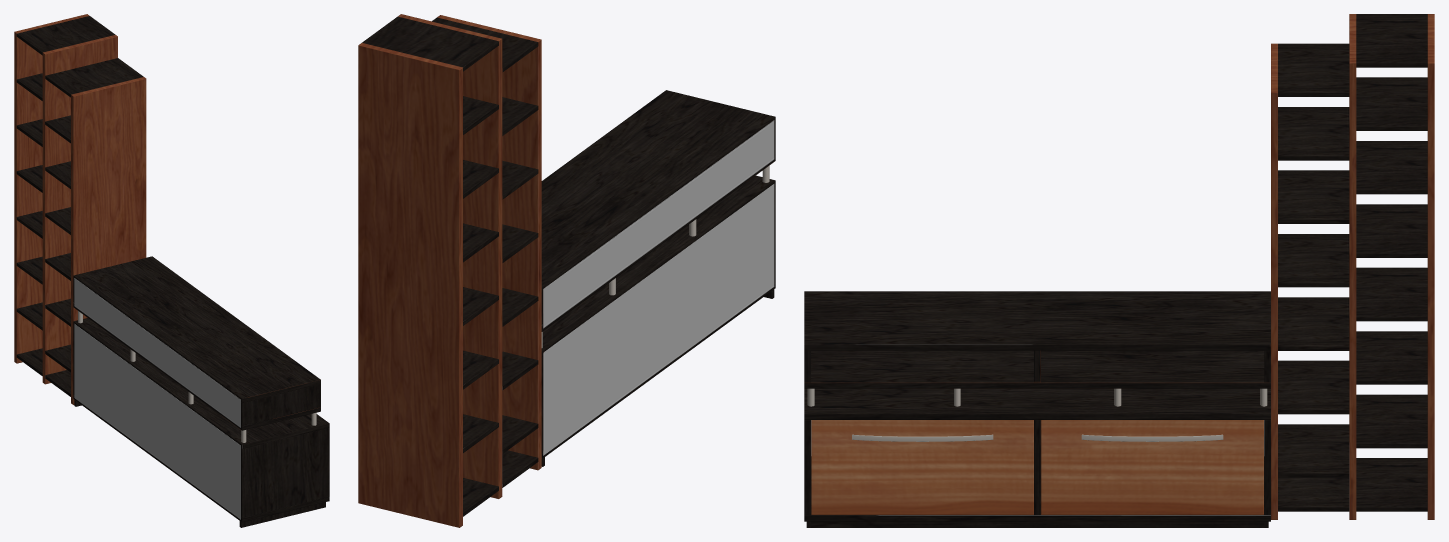
Rendered from closet.glb.
3 views of the same model, side by side, from view 1: azimuth 30°, elevation 25°; view 2: azimuth 150°, elevation 25°; view 3: azimuth 270°, elevation 25° (orthographic). The views are drawn at different scales.
Parts seen in each view (by area): view 1: Cube.005, Cube.003; view 2: Cube.003, Cube.005; view 3: Cube.003, Cube.005, Cube.001, Cube.002.
Boxes of the visible parts, x1,y1,x2,y2 form: Cube.005: (73, 256, 329, 527); Cube.003: (14, 14, 146, 404); Cube.003: (358, 14, 541, 527); Cube.005: (541, 90, 775, 466); Cube.003: (1271, 14, 1434, 519); Cube.005: (804, 291, 1270, 527); Cube.001: (811, 420, 1033, 514); Cube.002: (1041, 420, 1263, 514).
Size of the model in its own units: 0.6172 by 2.16 by 2.7.
1 material, 1 textured.
